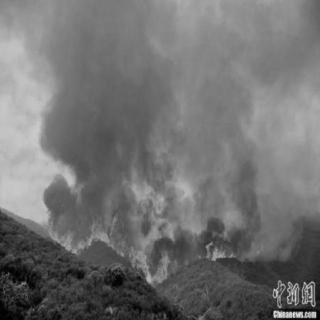Smoke: (34, 6, 308, 214)
